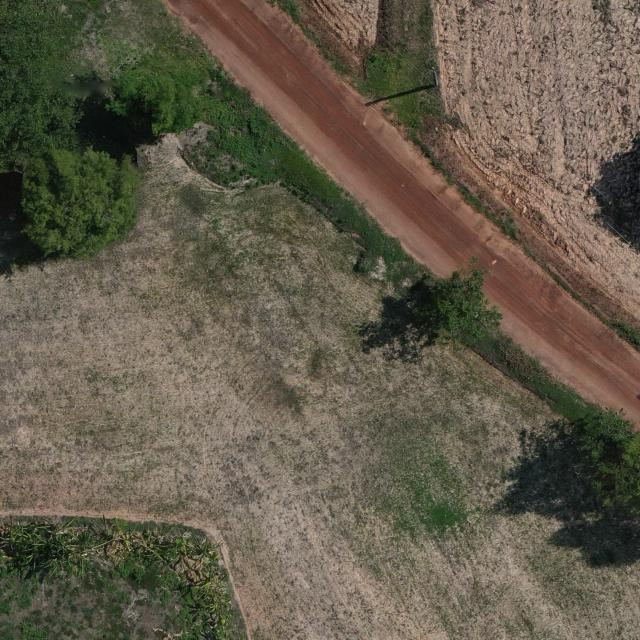Tree: (9, 143, 142, 271), (579, 404, 640, 565), (433, 254, 509, 347), (113, 68, 205, 142)
